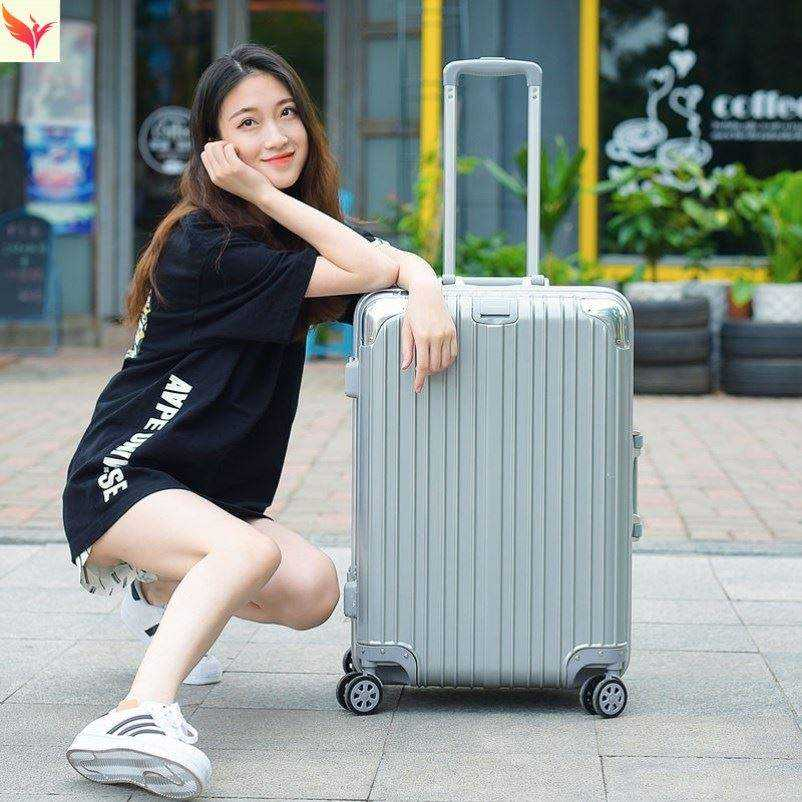box: (351, 285, 634, 689)
handle: (436, 275, 550, 288), (632, 429, 645, 539)
wheel: (337, 669, 383, 715), (581, 674, 628, 718)
